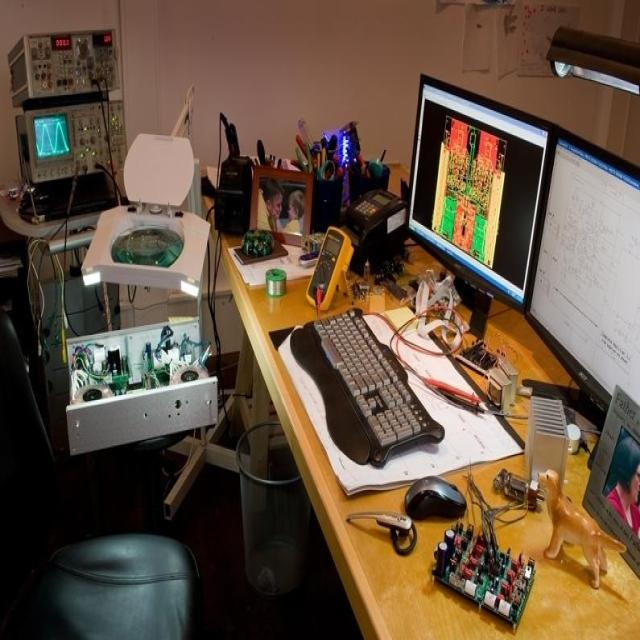E-waste: (10, 27, 632, 620)
